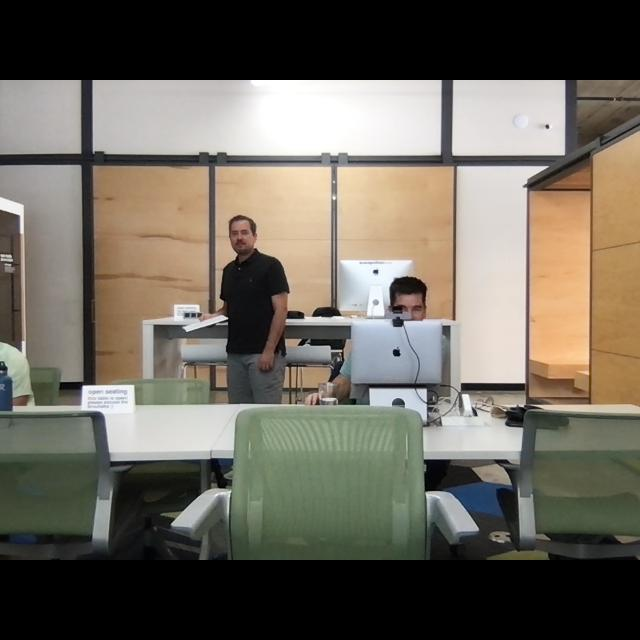NO-Hardhat: (388, 275, 428, 302), (228, 214, 255, 230)
NO-Mask: (231, 238, 254, 255)
NO-Safety Vest: (221, 254, 289, 357), (0, 343, 32, 407)
Person: (201, 215, 289, 402), (303, 275, 429, 405), (0, 340, 35, 407)
